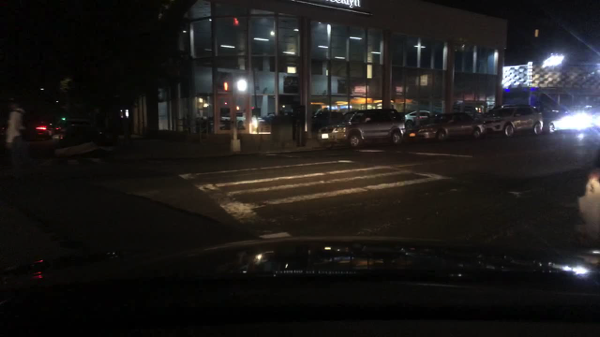car: (315, 107, 406, 149), (477, 104, 544, 137), (405, 112, 475, 142), (544, 104, 599, 135), (59, 124, 96, 144), (401, 110, 429, 127), (30, 121, 54, 140), (54, 125, 62, 134)
person: (6, 102, 27, 160)
traffic light: (61, 116, 65, 121)
